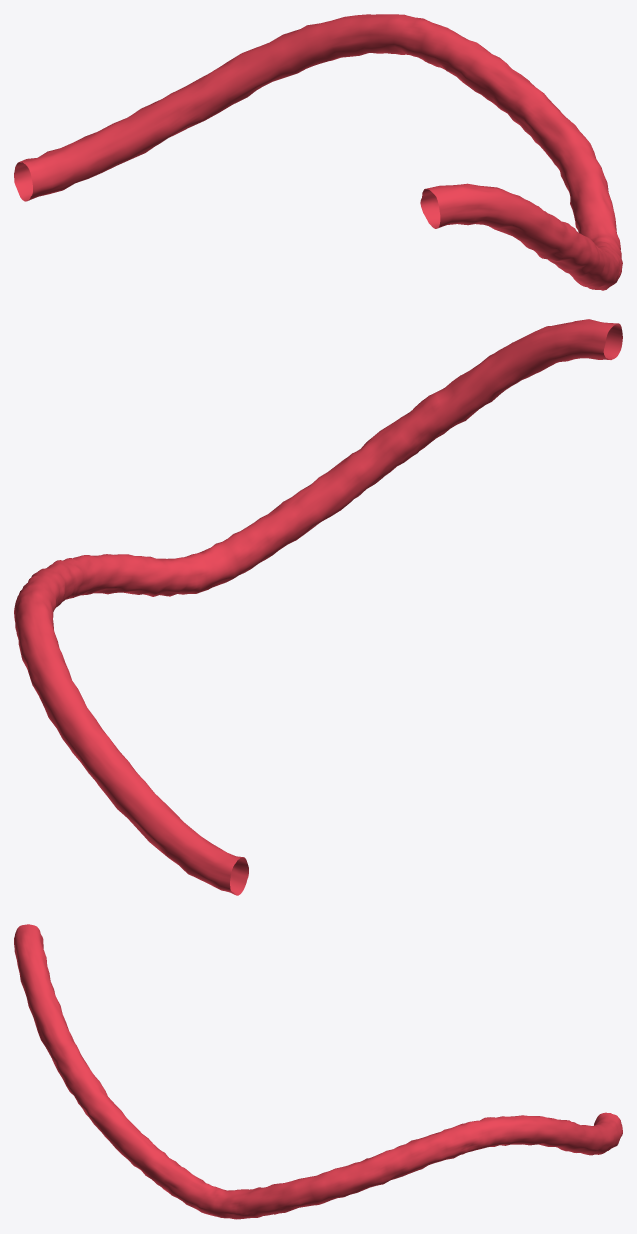
The model's file is Tubo3.fbx.
The picture shows the model from 3 angles, top to bottom: view 1: azimuth 30°, elevation 25°; view 2: azimuth 150°, elevation 25°; view 3: azimuth 270°, elevation 25°; orthographic projection. The views are drawn at different scales.
Visible parts, largest first — view 1: Sphere.003; view 2: Sphere.003; view 3: Sphere.003.
Boxes of the visible parts, box(x1,y1,x2,y2) form: Sphere.003: box(14, 14, 622, 290); Sphere.003: box(14, 319, 622, 895); Sphere.003: box(14, 924, 622, 1219).
Size of the model in its own units: 9033 by 7000 by 17729.
